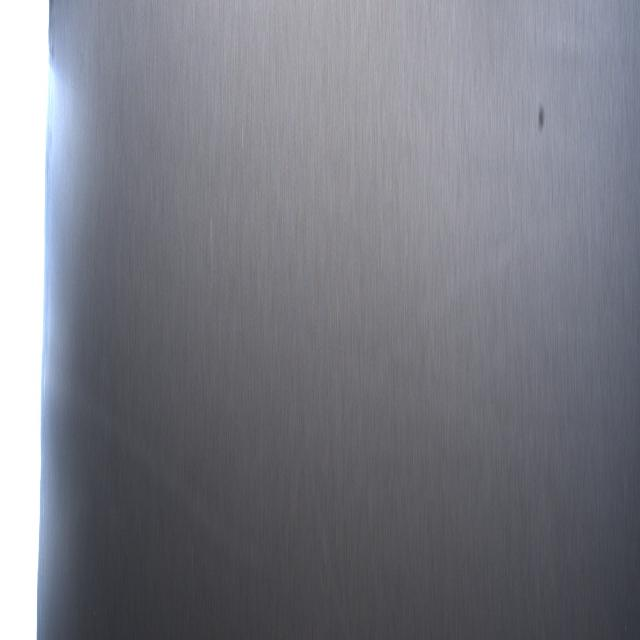crease: (96, 385, 265, 570), (418, 246, 518, 327), (307, 456, 347, 611)
